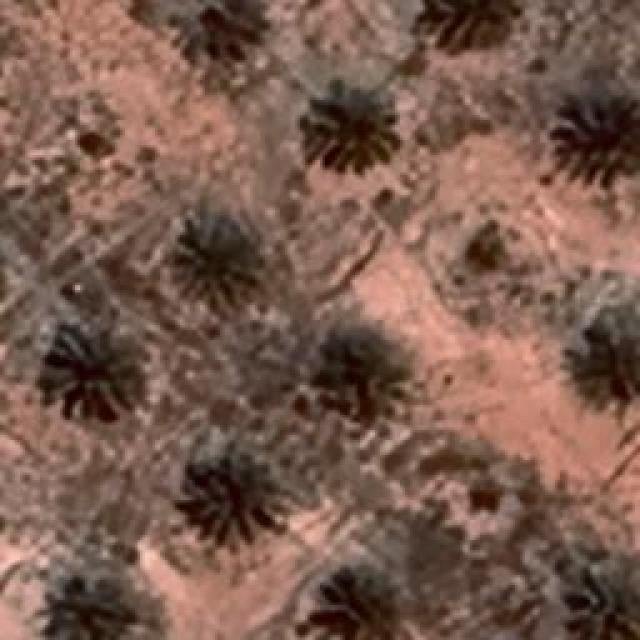PalmTree: (42, 320, 148, 415), (185, 450, 293, 540), (302, 75, 400, 170), (170, 212, 260, 312), (560, 90, 638, 188), (557, 301, 640, 391), (320, 334, 402, 424), (167, 0, 270, 62), (320, 568, 408, 638), (562, 560, 636, 638), (42, 562, 116, 640), (420, 0, 522, 48)
